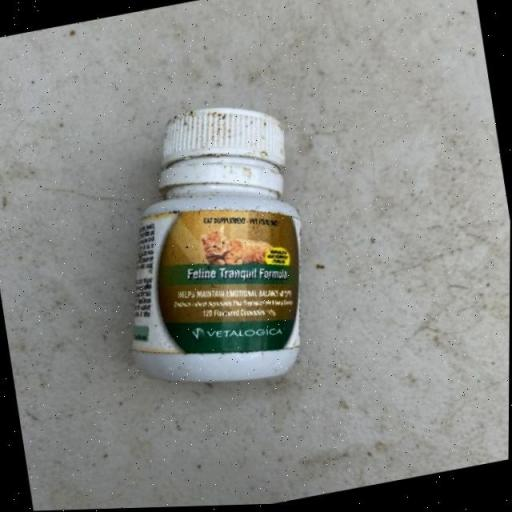plastic: (96, 92, 326, 405)
